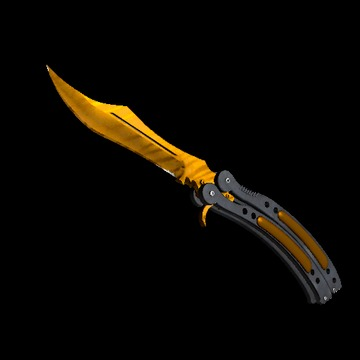knife: (42, 64, 346, 306)
